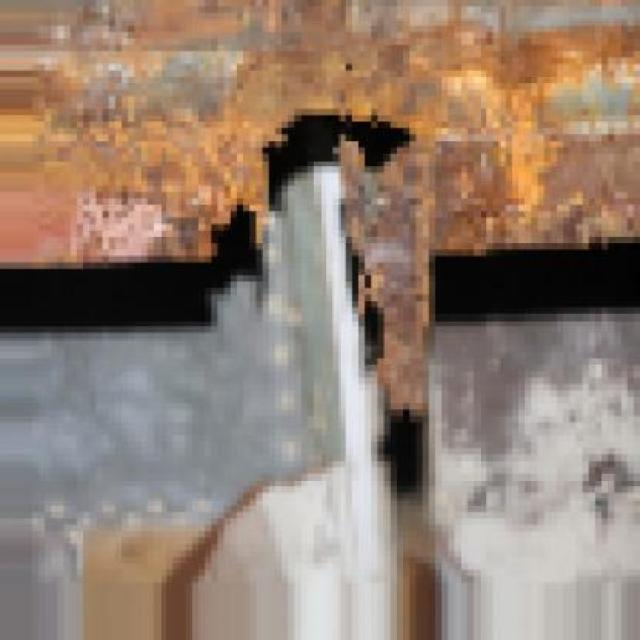defective: (15, 0, 639, 555)
